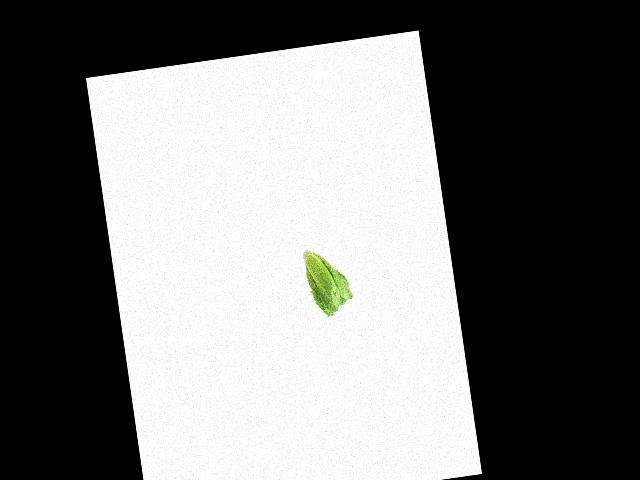lettuce: (300, 238, 355, 319)
